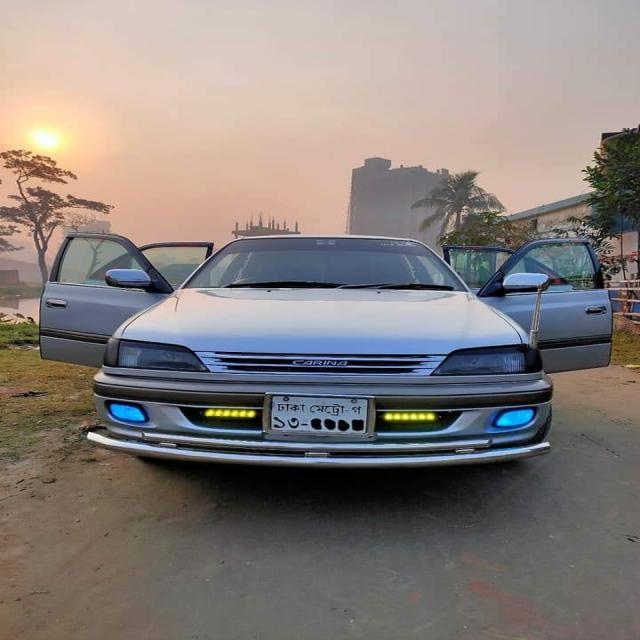silver: (37, 172, 640, 464)
